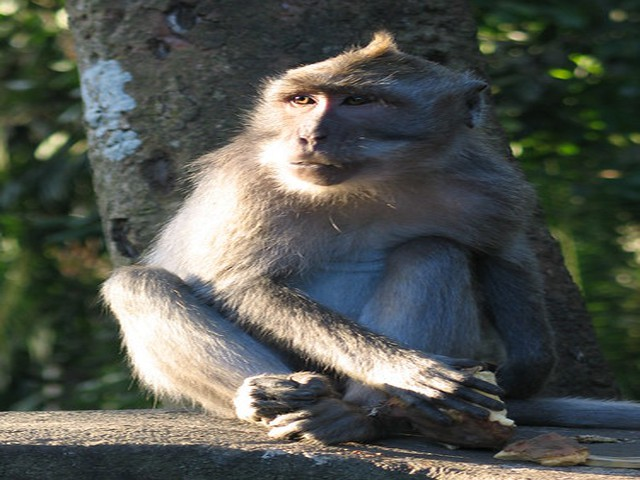Monkey: (99, 27, 566, 442)
